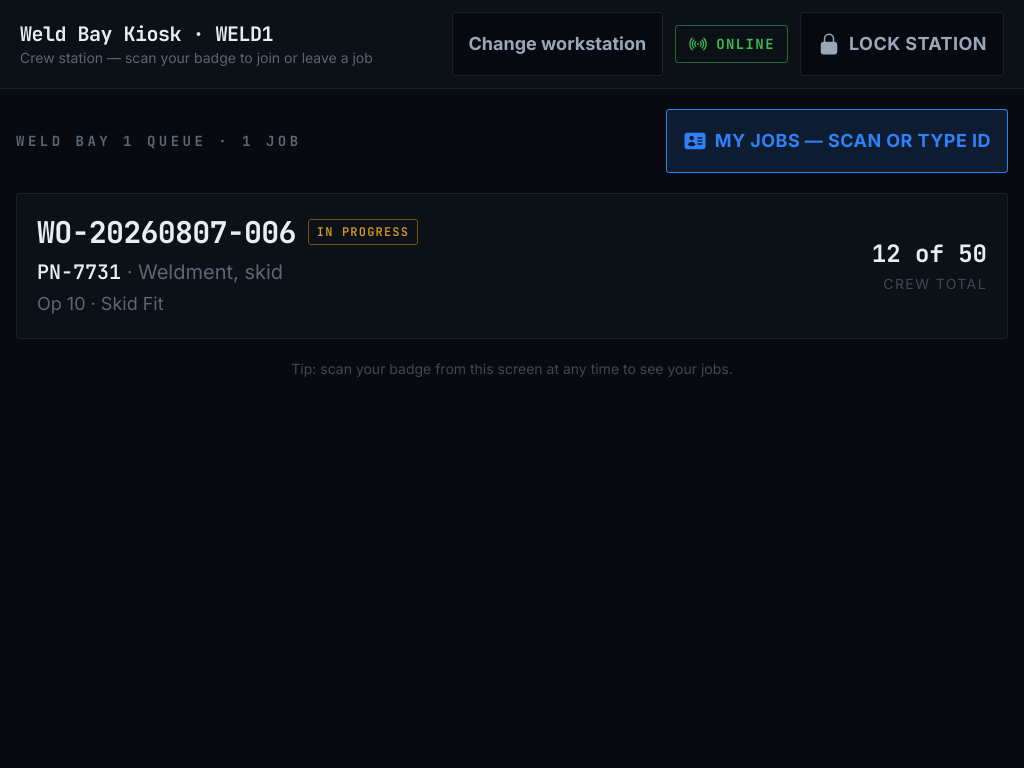
CrewStationKiosk — job instructions on the job detail screen › shows all five written-guidance fields, labeled, on the screen the welder opens
Click the button "WO-20260807-006".
click(166, 232)  # box x1=16 y1=193 x2=1008 y2=339
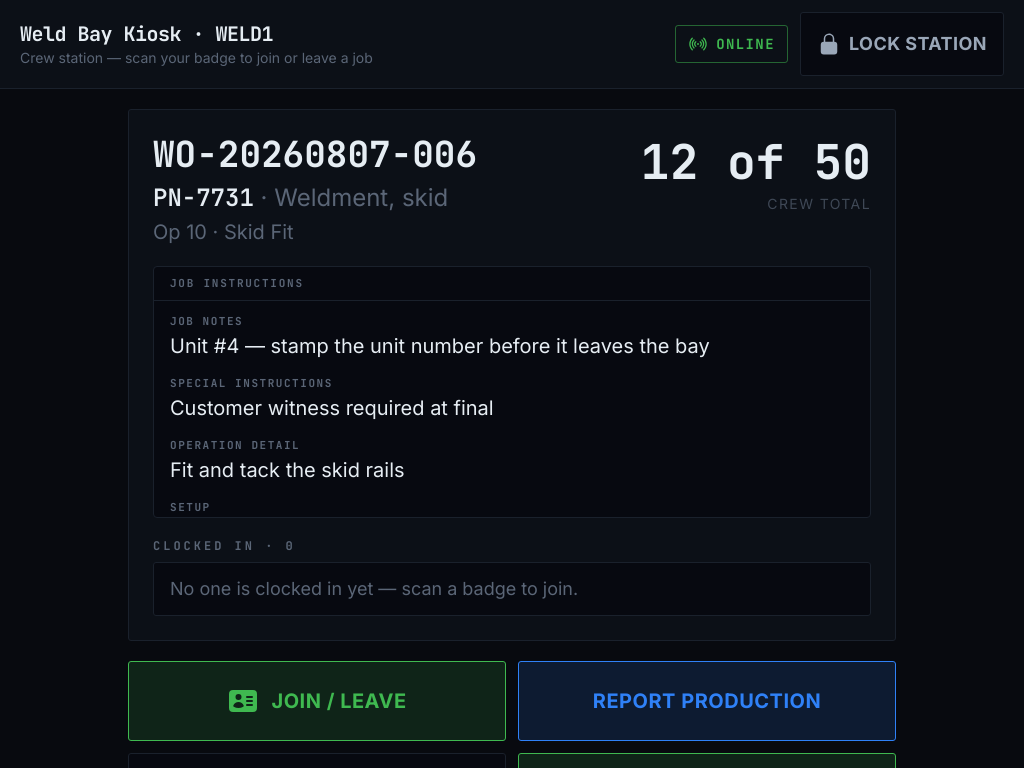
Result: the text "Job Notes" is shown at x1=170 y1=314 x2=243 y2=328
Result: the text "Unit #4 — stamp the unit number before it leaves the bay" is shown at x1=170 y1=334 x2=710 y2=358
Result: the text "Special Instructions" is shown at x1=170 y1=376 x2=333 y2=390
